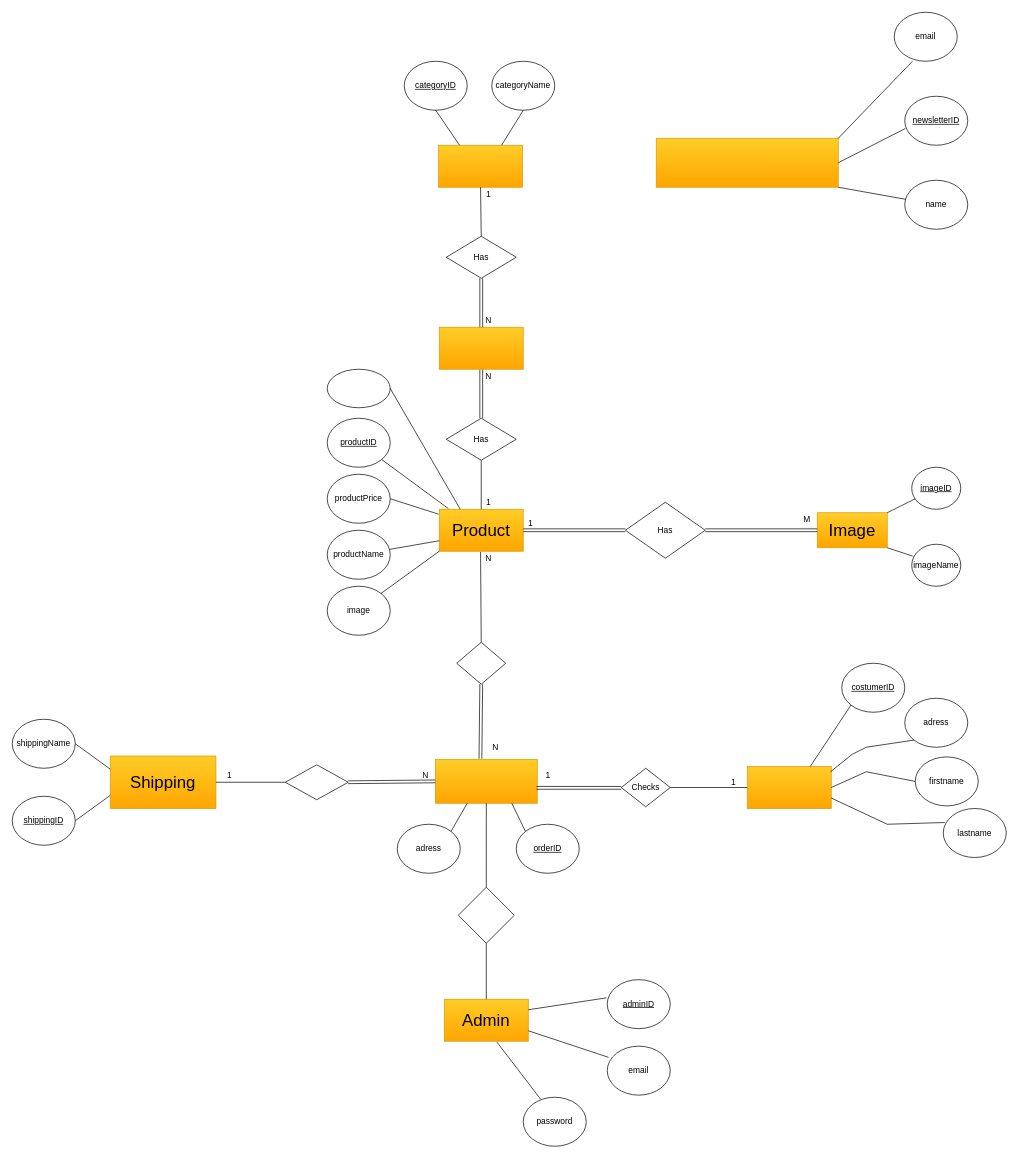
Image size: 1019x1159. Some labels were removed from this diagram. The box of each missing label's shape, as (x1, y1, x2, y2) in pixels:
Category: (438, 145, 523, 187)
check: (458, 887, 514, 943)
Costumer: (747, 766, 831, 808)
Includes: (456, 642, 506, 684)
inStock: (327, 369, 390, 408)
Inventory: (439, 327, 523, 369)
Newslettersubscribtion: (656, 138, 838, 187)
Order: (435, 759, 537, 803)
transport by: (285, 764, 348, 800)
